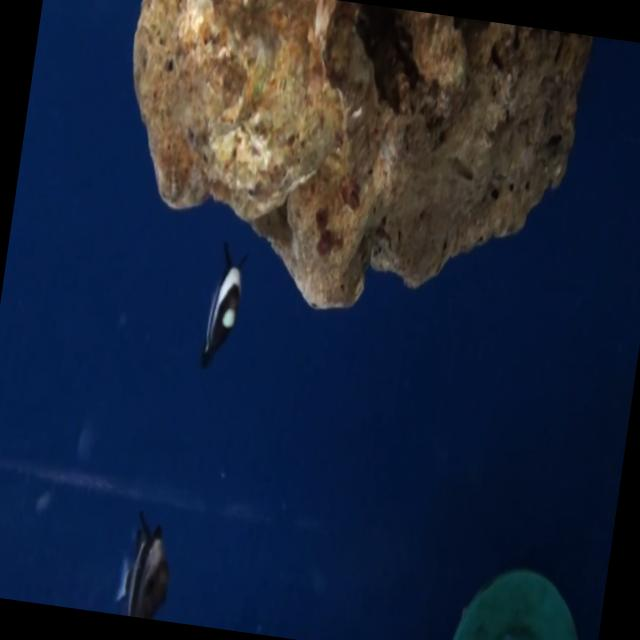ThreeStripedDamselfish: (197, 239, 250, 376)
